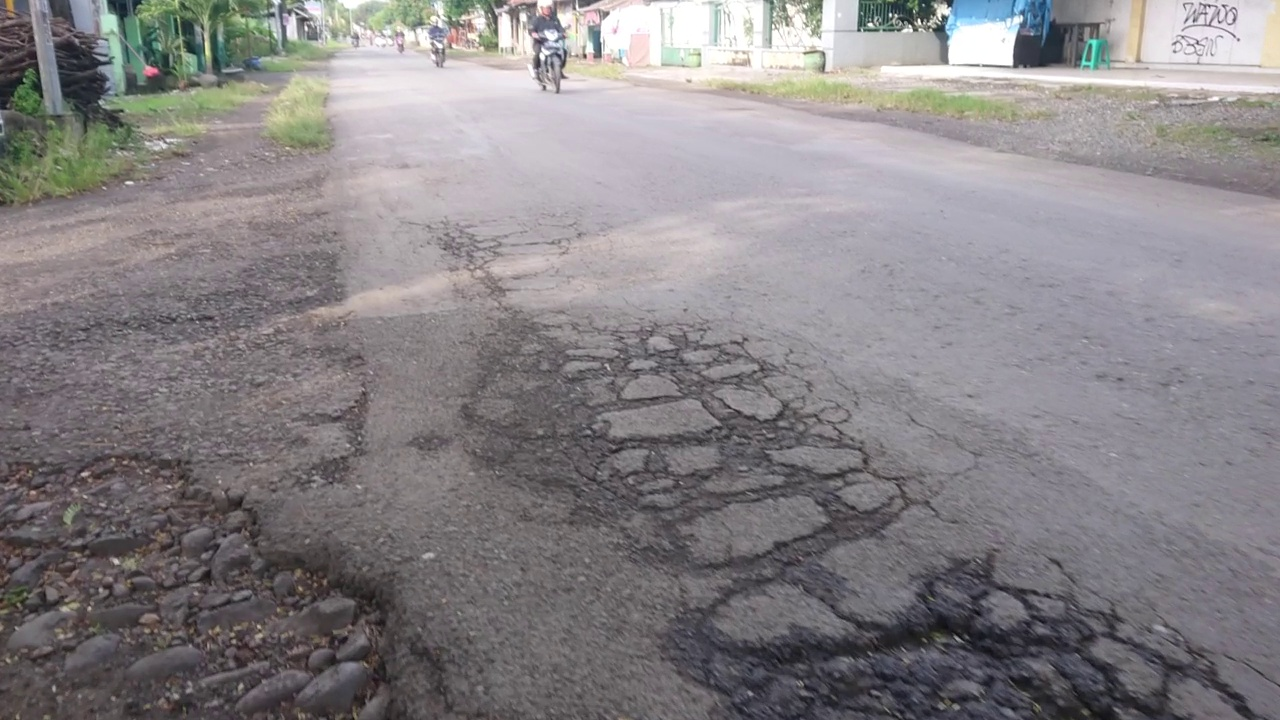Retak: (487, 320, 912, 555), (694, 564, 1243, 720)
